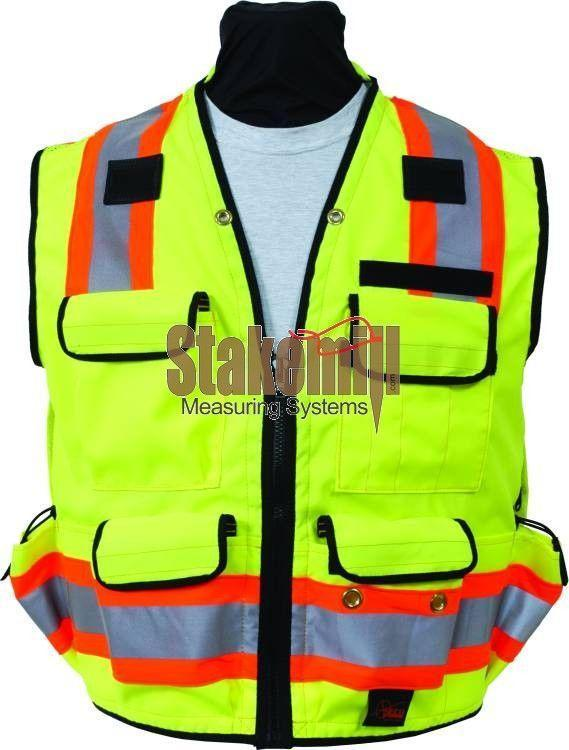vest: (6, 68, 568, 747)
